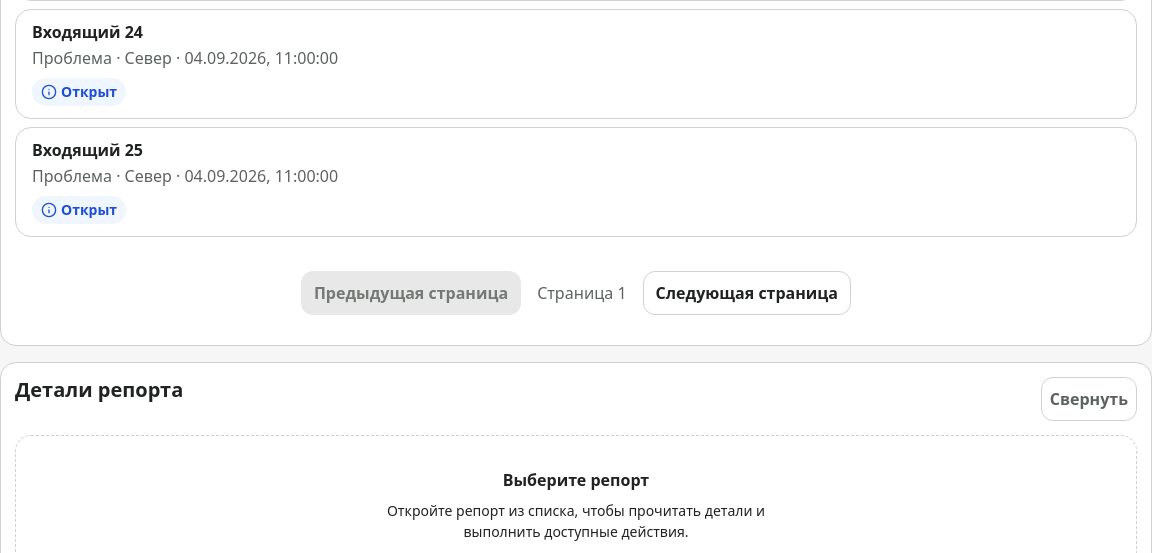
Test: keeps the next inbox report when a newer report leaves the queue
The width and height of the screenshot is (1152, 553).
(page scrolled)
What coordinates should you click on to do the following:
click the button "Следующая страница"
I would click on:
 (747, 293)
Its box is [643,271,851,315].
(page scrolled)
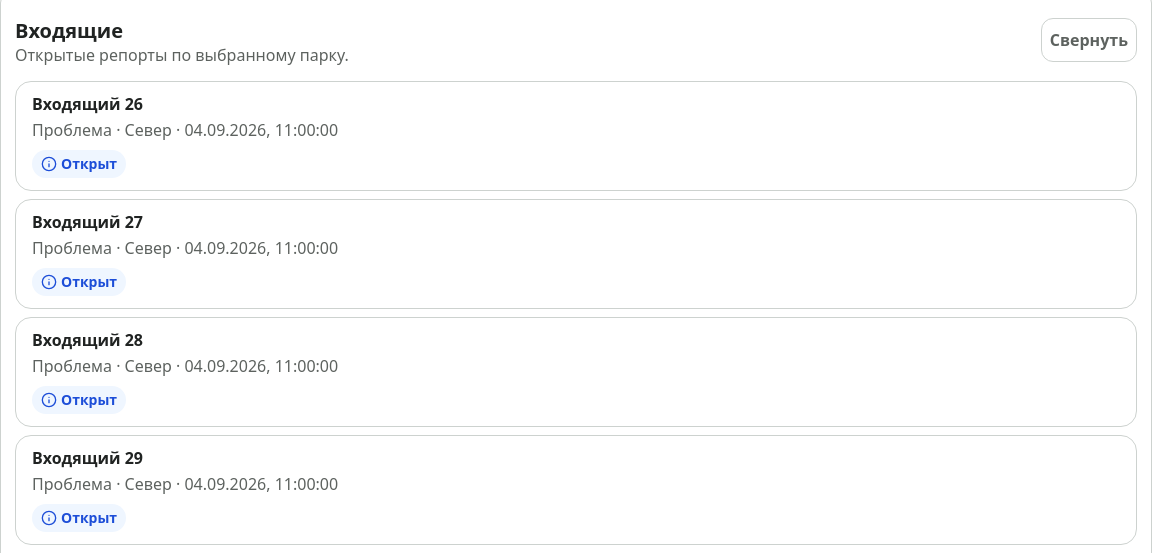
Expected: the button with aria-label "Открыть репорт Входящий 26" is shown, [15,81,1137,191]
